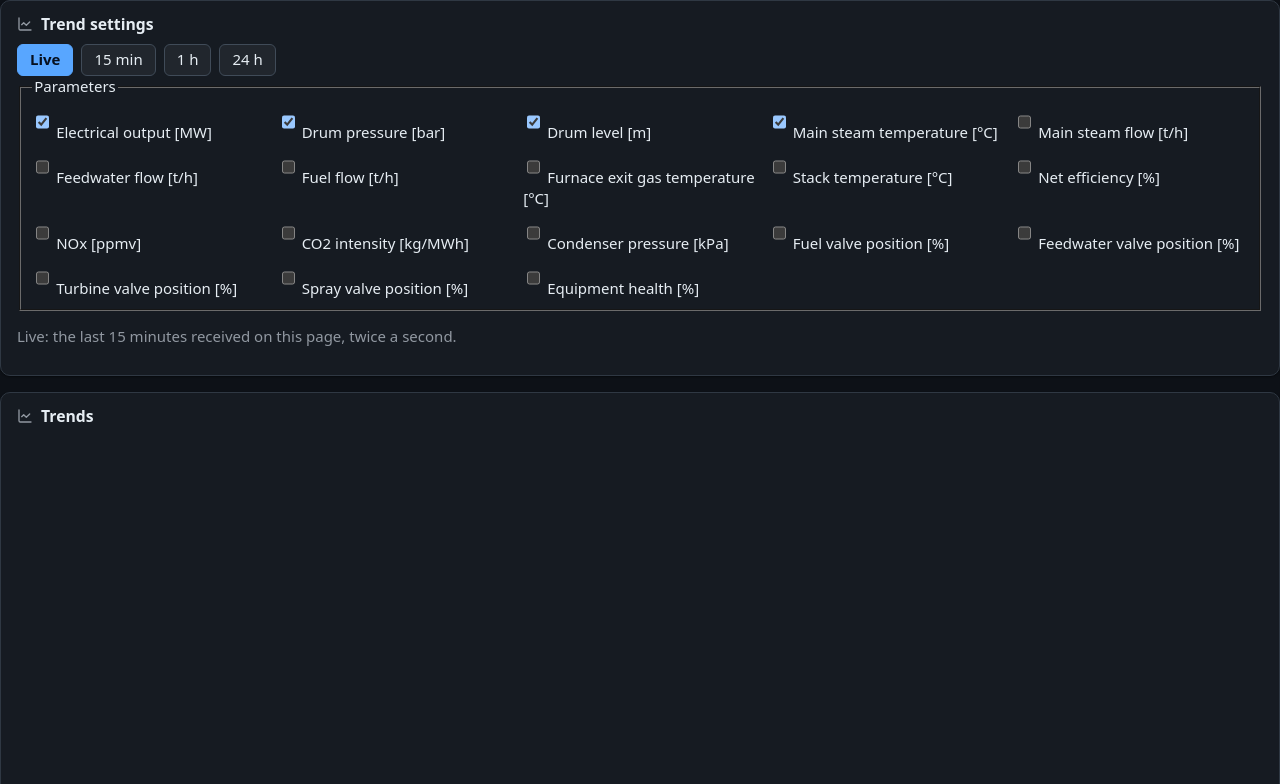
Scenario: TrendsScreen › asks for a parameter when none is chosen
Click the checkbox labelled "Electrical output [MW]".
click(43, 122)  # box [36,106,49,138]
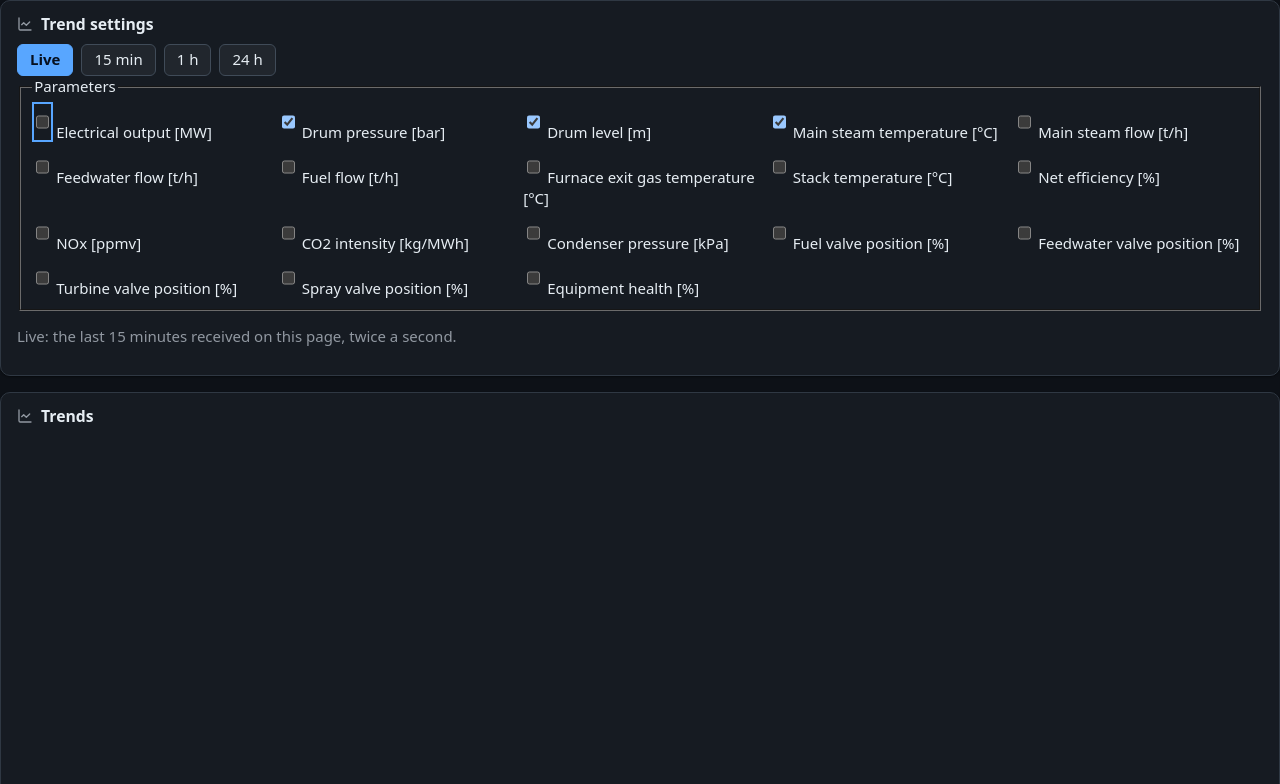
Click the checkbox labelled "Drum pressure [bar]".
click(288, 122)  # box [282,106,295,138]
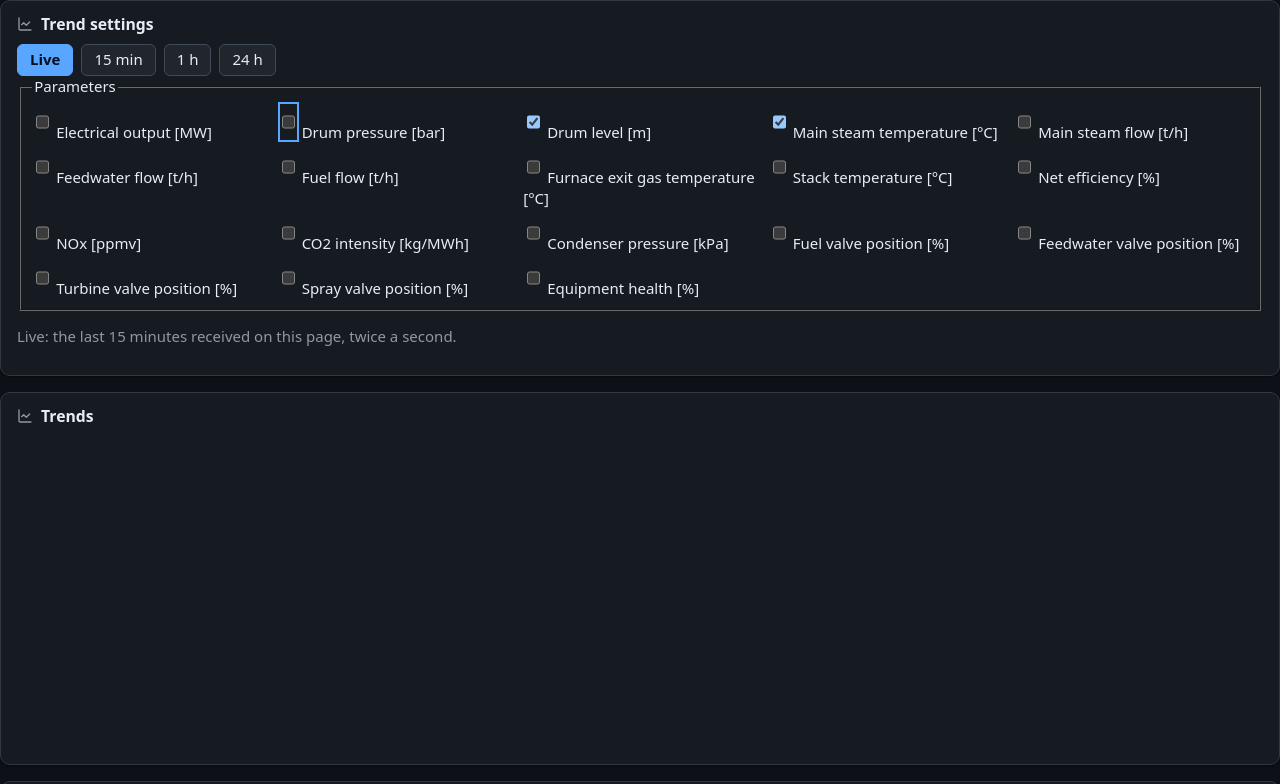
Click the checkbox labelled "Drum level [m]".
click(534, 122)  # box [527,106,540,138]
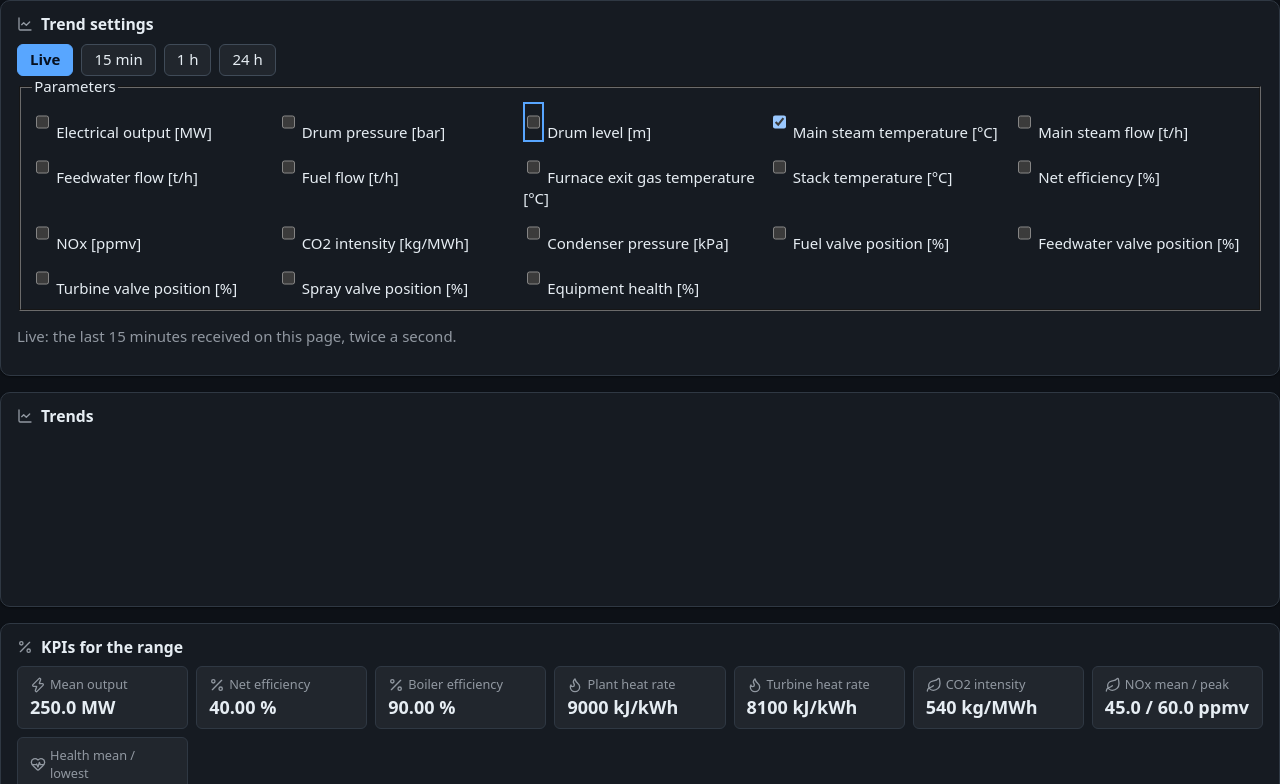
Click the checkbox labelled "Main steam temperature [°C]".
click(779, 122)  # box [773,106,786,138]
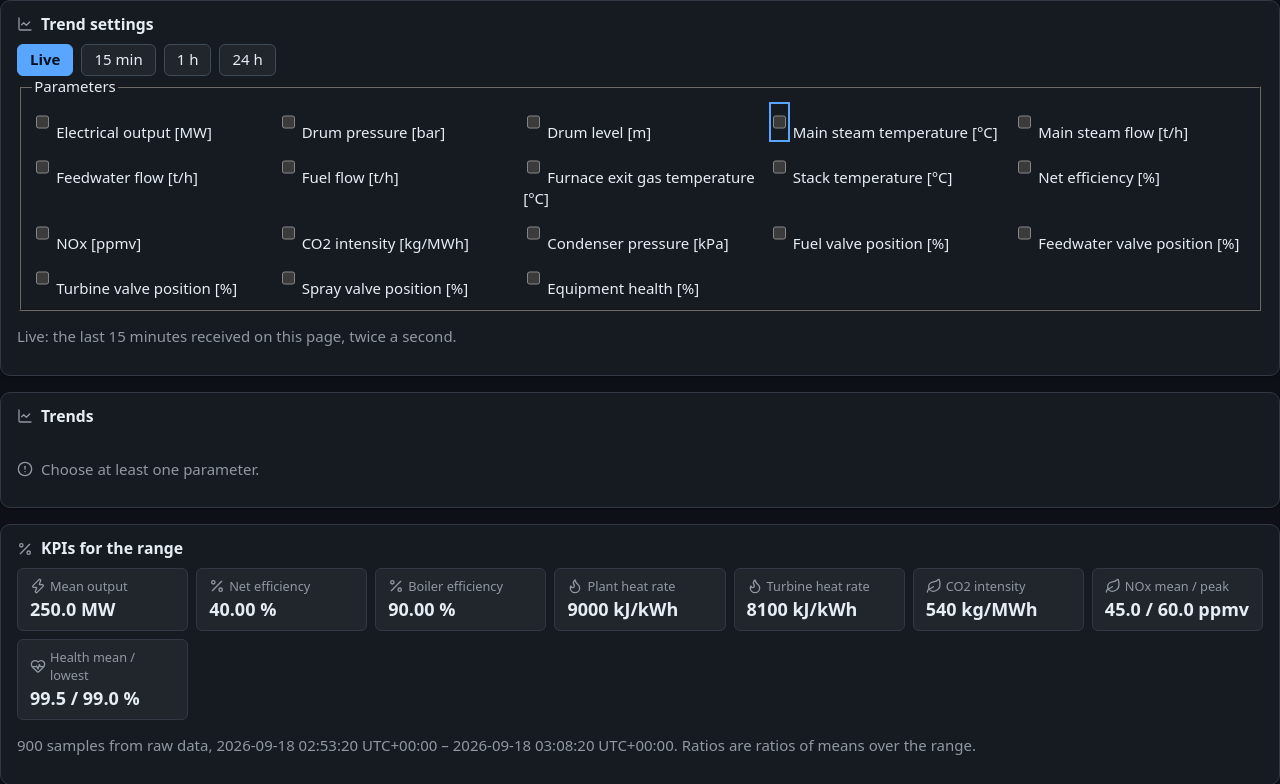
Now the text "Choose at least one parameter." is shown, box [17,458,259,478]
Now no pictures with test id "trend-chart" are shown
